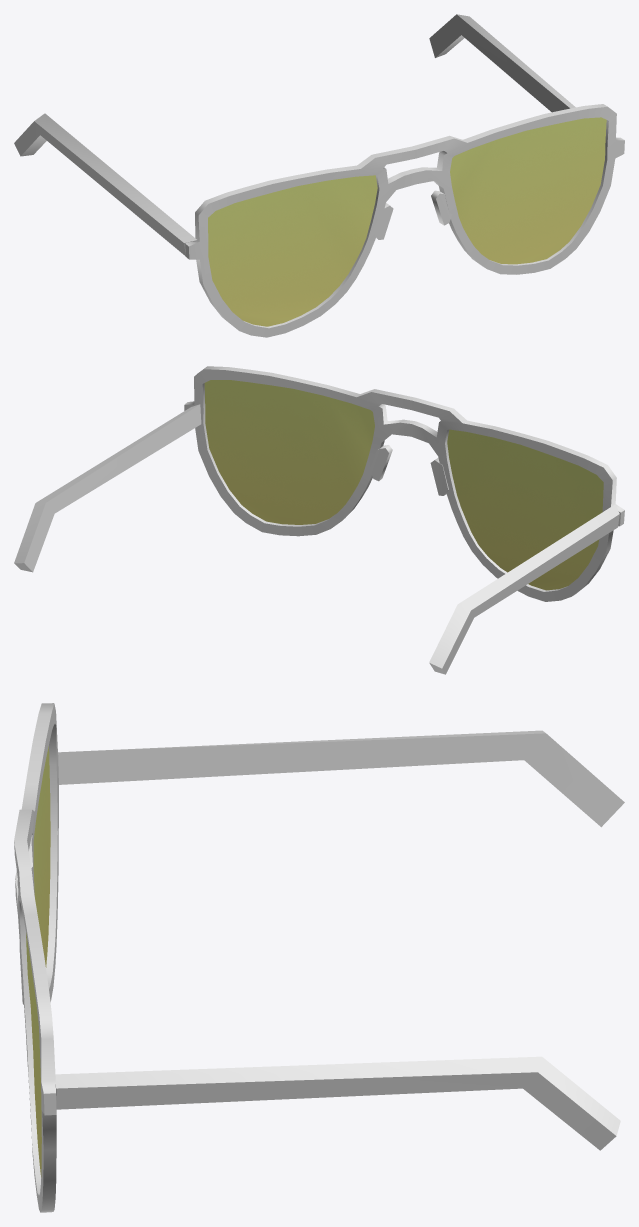
File: glasses.fbx
3 renders of one model, top to bottom at view 1: azimuth 30°, elevation 25°; view 2: azimuth 150°, elevation 25°; view 3: azimuth 270°, elevation 25°, orthographic. The views are drawn at different scales.
Visible parts, largest first — view 1: Glasses; view 2: Glasses; view 3: Glasses.
Boxes of the visible parts, x1,y1,x2,y2 form: Glasses: [14, 14, 624, 337]; Glasses: [14, 366, 624, 674]; Glasses: [14, 703, 624, 1212].
Size of the model in its own units: 97.39 by 34.15 by 73.26.
